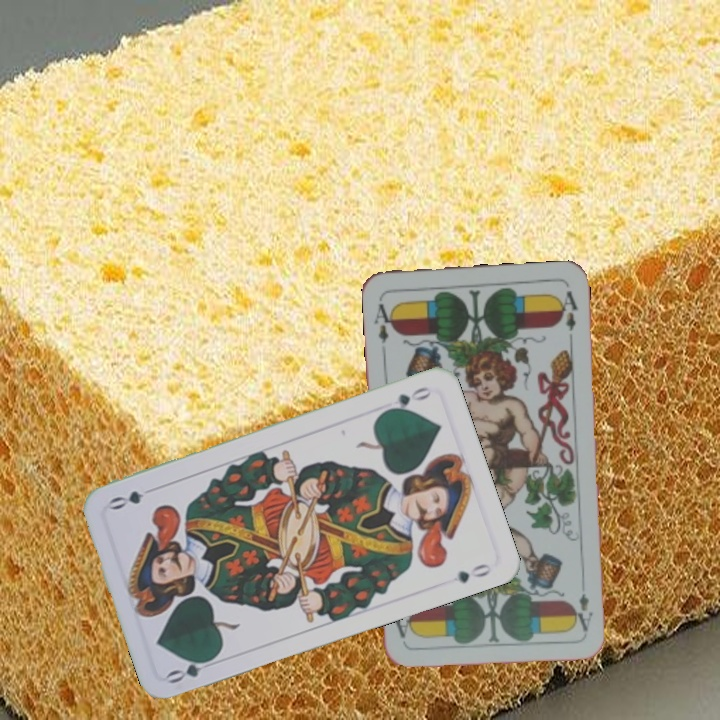EA: (370, 300, 397, 346), (569, 589, 595, 634)
GO: (163, 651, 219, 687), (379, 383, 434, 416)
